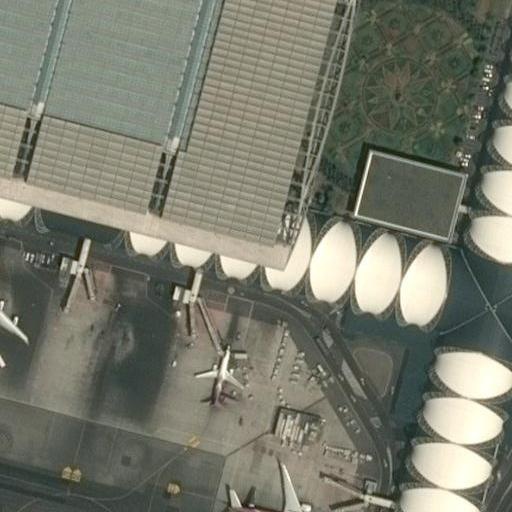Aircraft: (207, 454, 342, 512), (188, 345, 251, 402), (0, 297, 33, 369)
